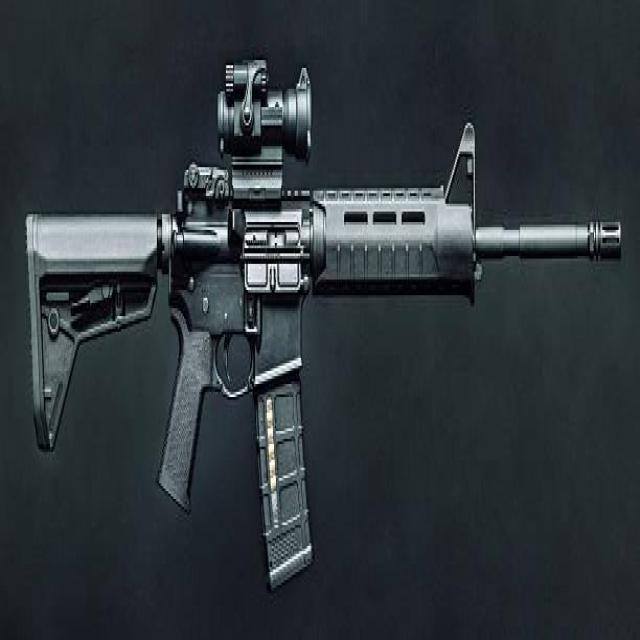Rifle: (25, 60, 624, 593)
